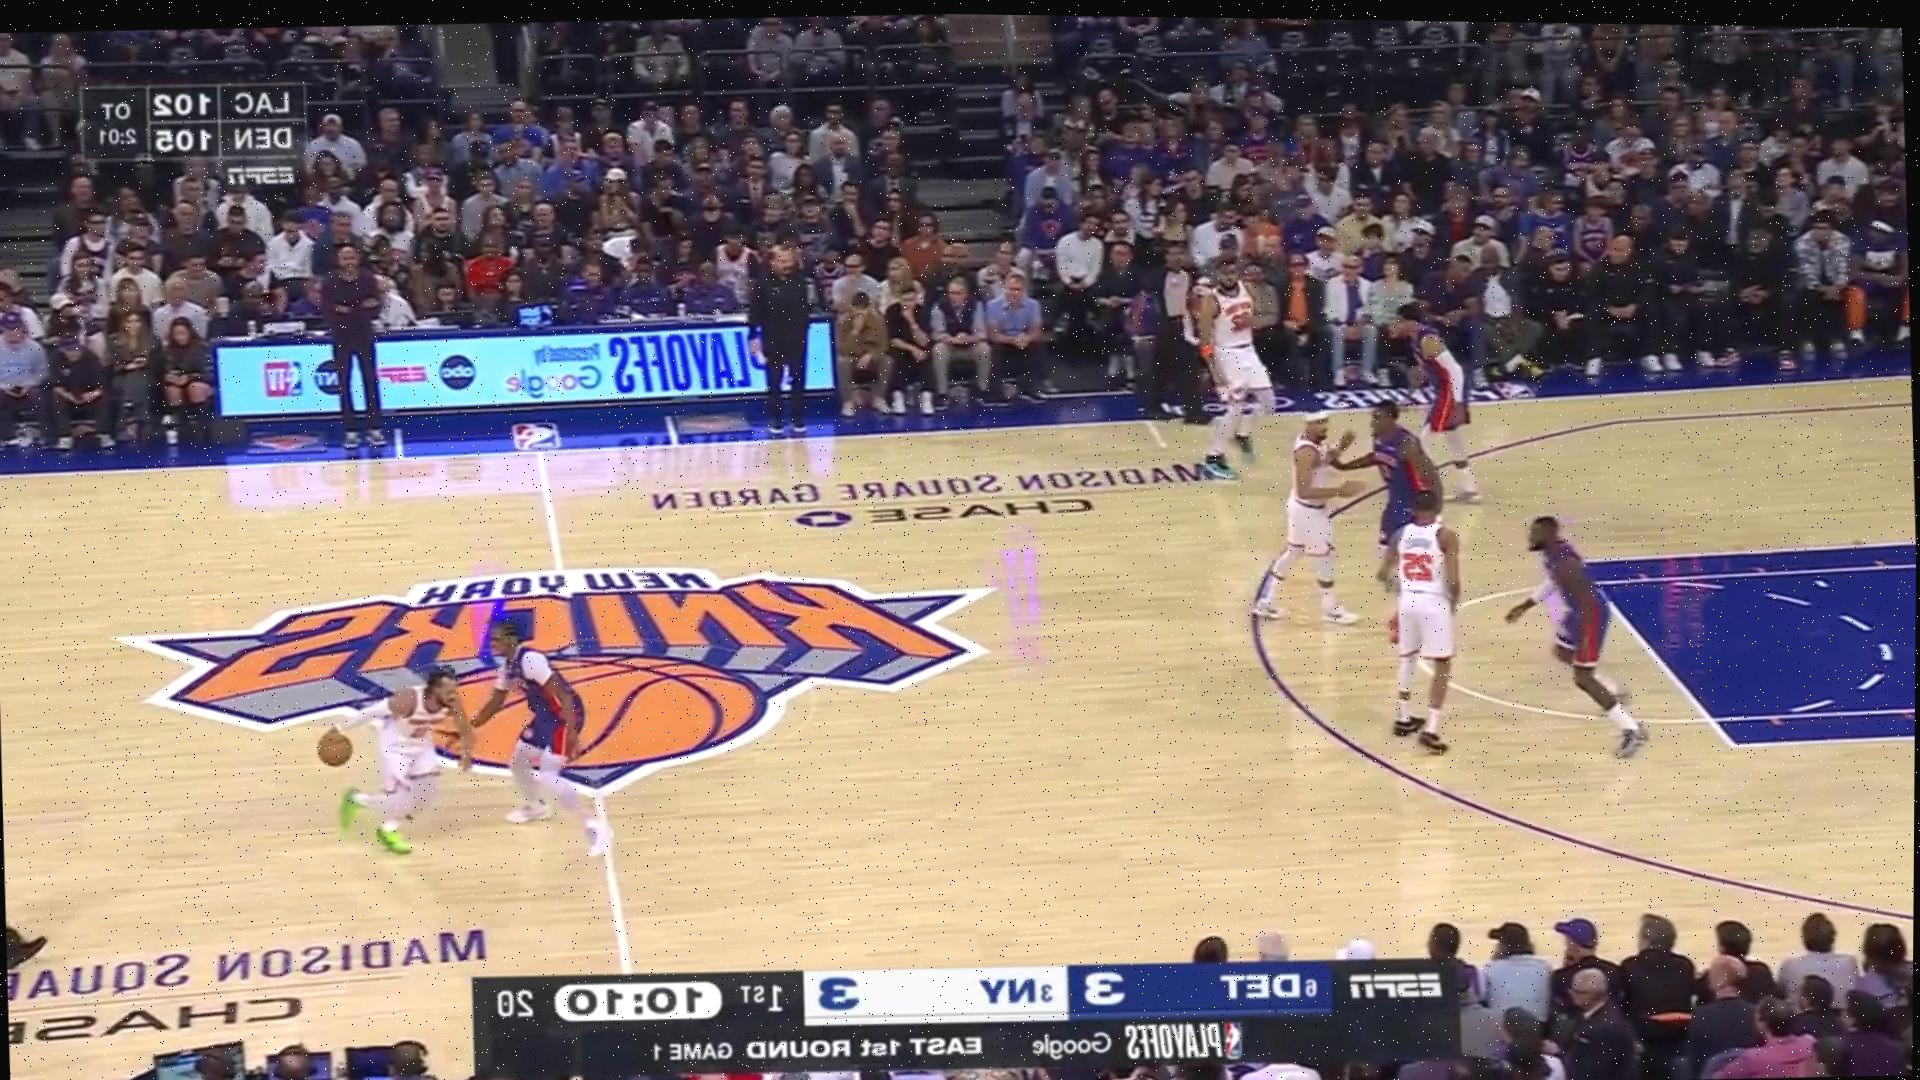no_foul: (266, 601, 617, 870)
